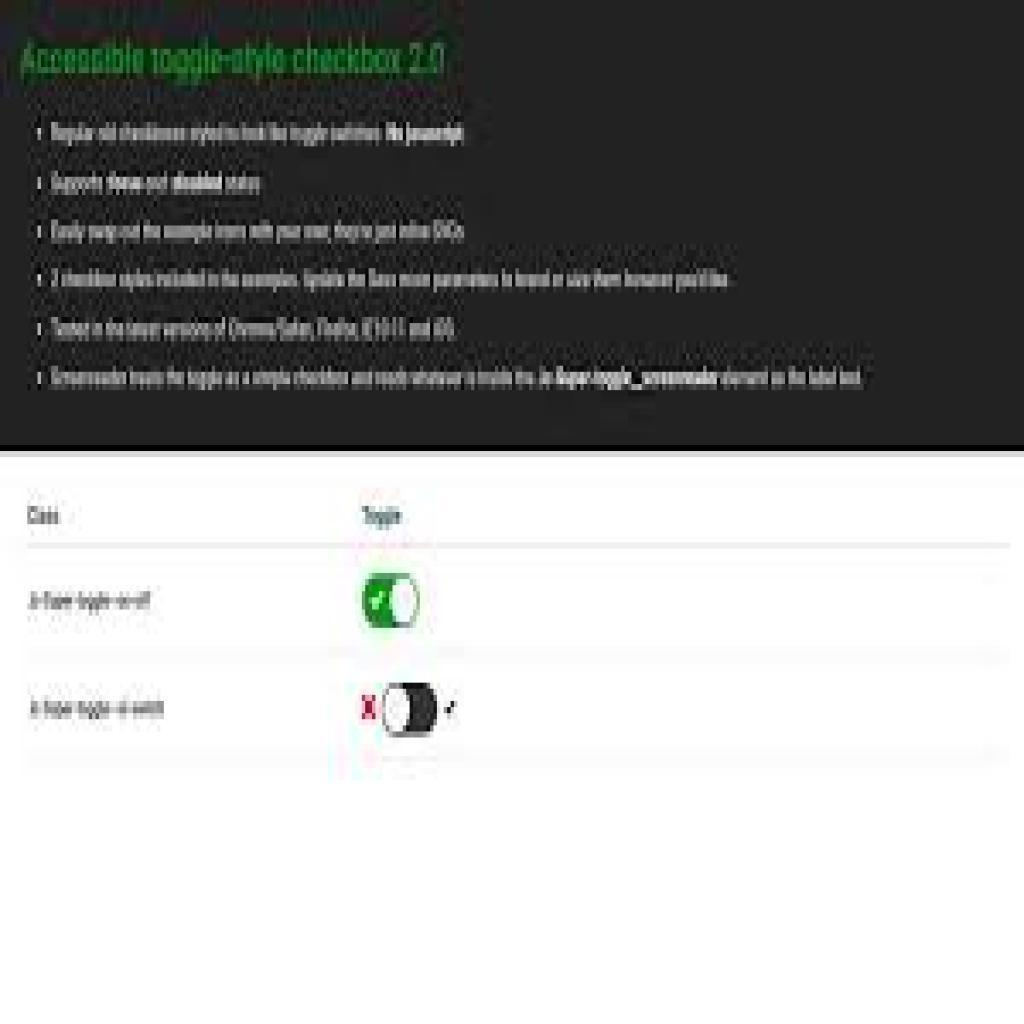label: (21, 690, 174, 725), (22, 585, 158, 619)
switch: (363, 574, 423, 631), (382, 684, 443, 739)
